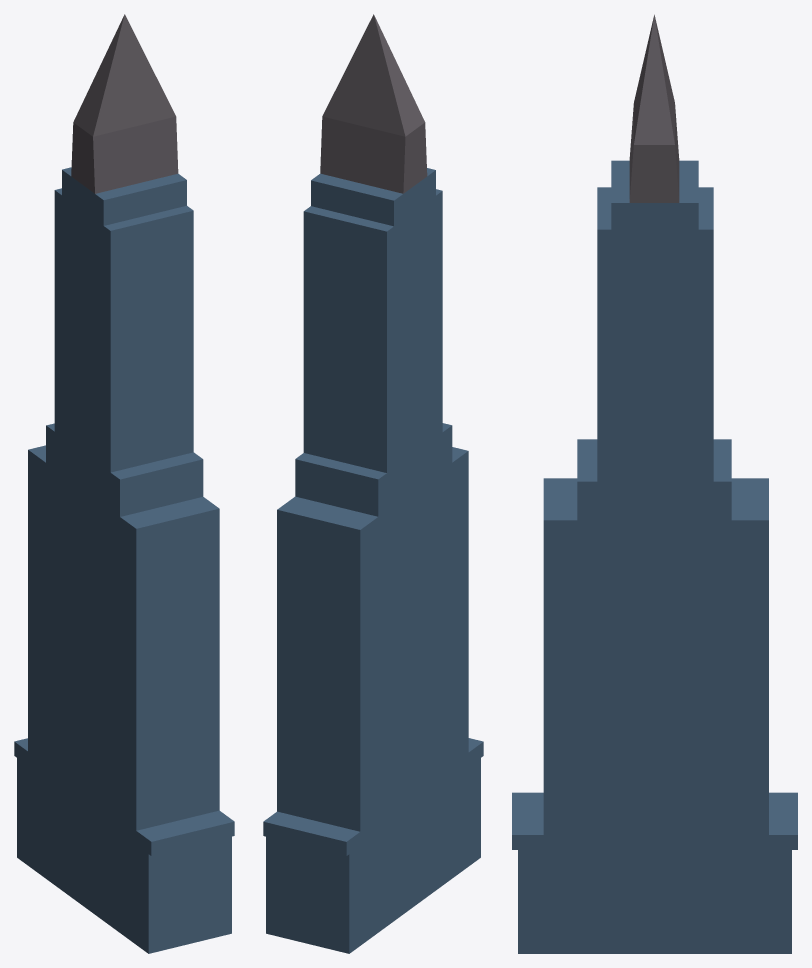
The model's file is Skyscraper4.fbx.
3 renders of one model, left to right at view 1: azimuth 30°, elevation 25°; view 2: azimuth 150°, elevation 25°; view 3: azimuth 270°, elevation 25°, orthographic. The views are drawn at different scales.
Visible parts, largest first — view 1: Skyscraper4; view 2: Skyscraper4; view 3: Skyscraper4.
Boxes of the visible parts, <box> form: Skyscraper4: <box>14,14,234,953</box>; Skyscraper4: <box>263,14,483,953</box>; Skyscraper4: <box>512,14,797,953</box>.
Size of the model in its own units: 1486 by 15049 by 4243.
